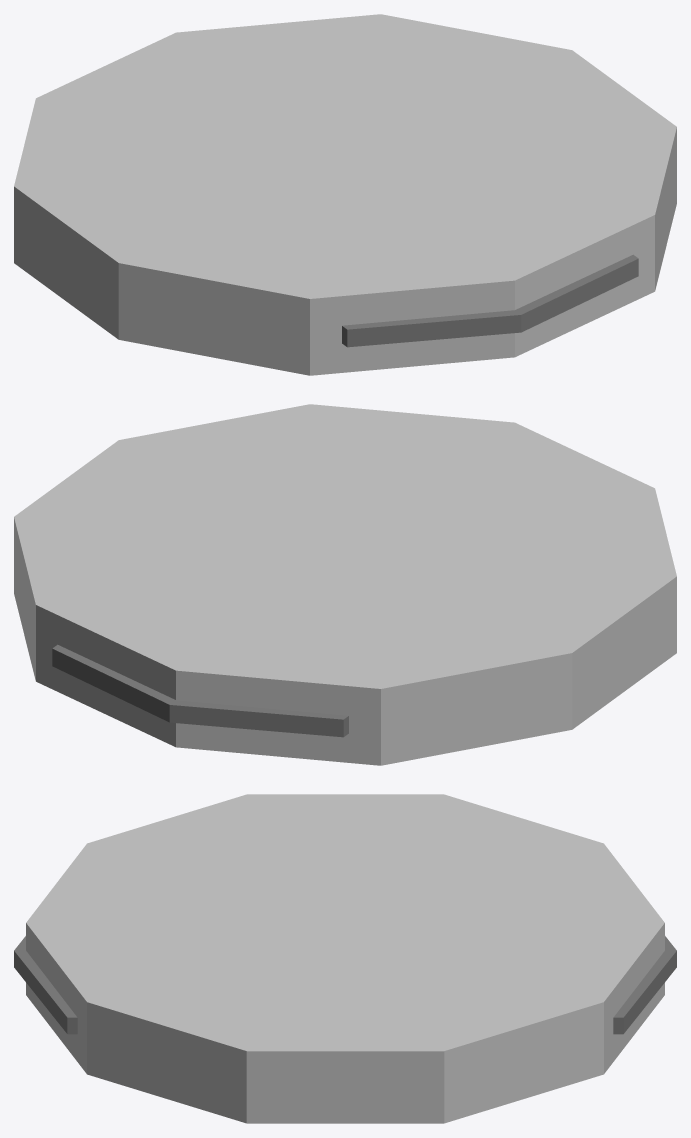
The model's file is Int_Light01_3.fbx.
The picture shows the model from 3 angles, top to bottom: view 1: azimuth 30°, elevation 25°; view 2: azimuth 150°, elevation 25°; view 3: azimuth 270°, elevation 25°; orthographic projection. The views are drawn at different scales.
Parts seen in each view (by area): view 1: Int_Light01_3; view 2: Int_Light01_3; view 3: Int_Light01_3.
Part boxes in pixels (x1=…): Int_Light01_3: x1=14, y1=14, x2=676, y2=375; Int_Light01_3: x1=14, y1=404, x2=676, y2=765; Int_Light01_3: x1=14, y1=794, x2=676, y2=1123.
Size of what is drawn, in the model's own units: 42.04 by 45.87 by 5.52.
